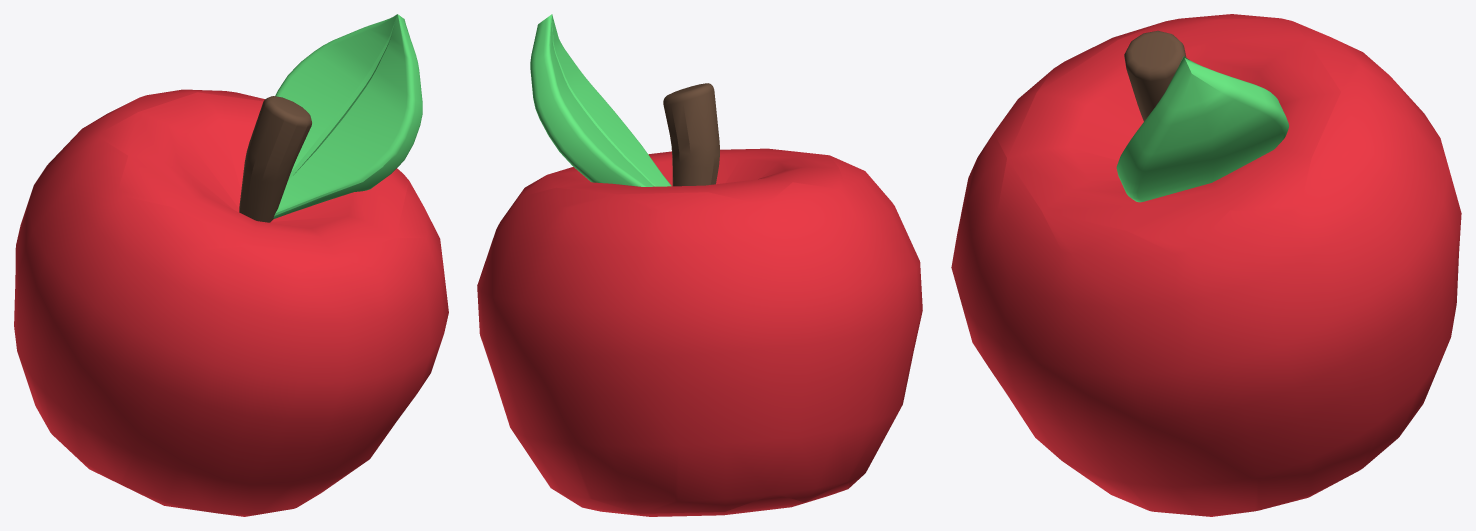
The model's file is apple.glb.
3 renders of one model, left to right at view 1: azimuth 30°, elevation 25°; view 2: azimuth 150°, elevation 25°; view 3: azimuth 270°, elevation 25°, orthographic. The views are drawn at different scales.
Visible parts, largest first — view 1: Apple; view 2: Apple; view 3: Apple.
Boxes of the visible parts, x1=… form: Apple: x1=14, y1=14, x2=448, y2=516; Apple: x1=477, y1=14, x2=922, y2=516; Apple: x1=951, y1=14, x2=1461, y2=516.
Size of the model in its own units: 1.63 by 1.8 by 1.64.
